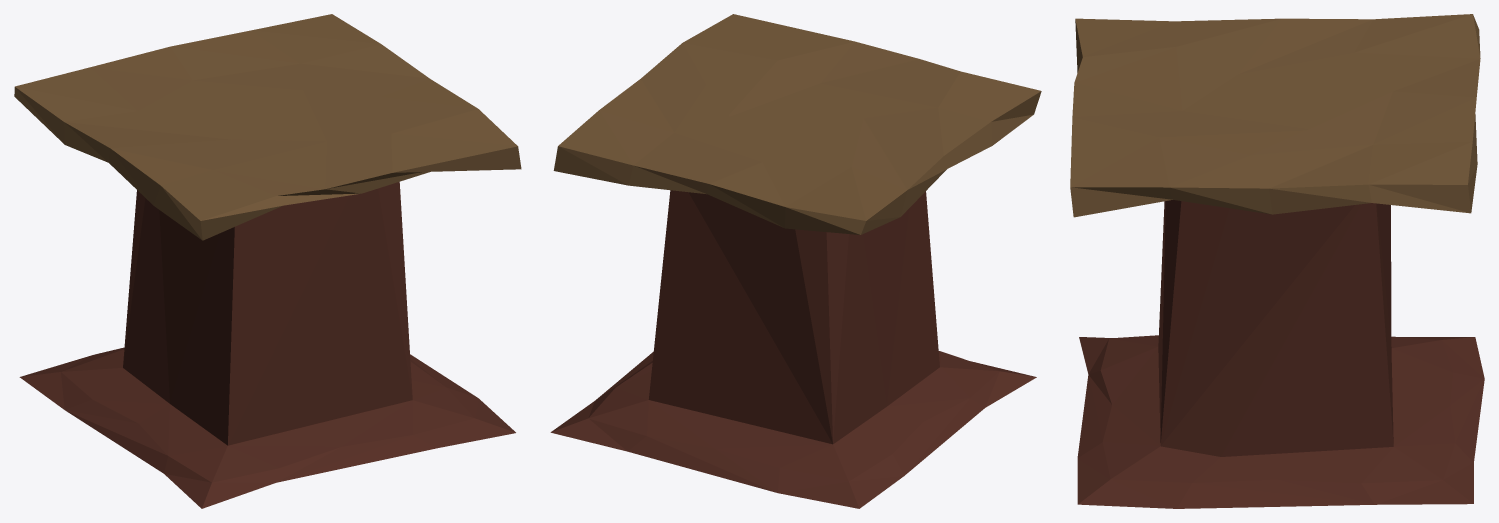
Rendered from RG-Dungeon_Table.fbx.
The picture shows the model from 3 angles, left to right: view 1: azimuth 30°, elevation 25°; view 2: azimuth 150°, elevation 25°; view 3: azimuth 270°, elevation 25°; orthographic projection. The views are drawn at different scales.
Parts seen in each view (by area): view 1: RG-Dungeon_Table; view 2: RG-Dungeon_Table; view 3: RG-Dungeon_Table.
Part boxes in pixels (bbox=[...]): RG-Dungeon_Table: bbox=[14, 14, 521, 508]; RG-Dungeon_Table: bbox=[550, 14, 1041, 508]; RG-Dungeon_Table: bbox=[1070, 14, 1484, 508].
Bounding box in the file's own units: 4.44 × 3.8 × 4.44.
